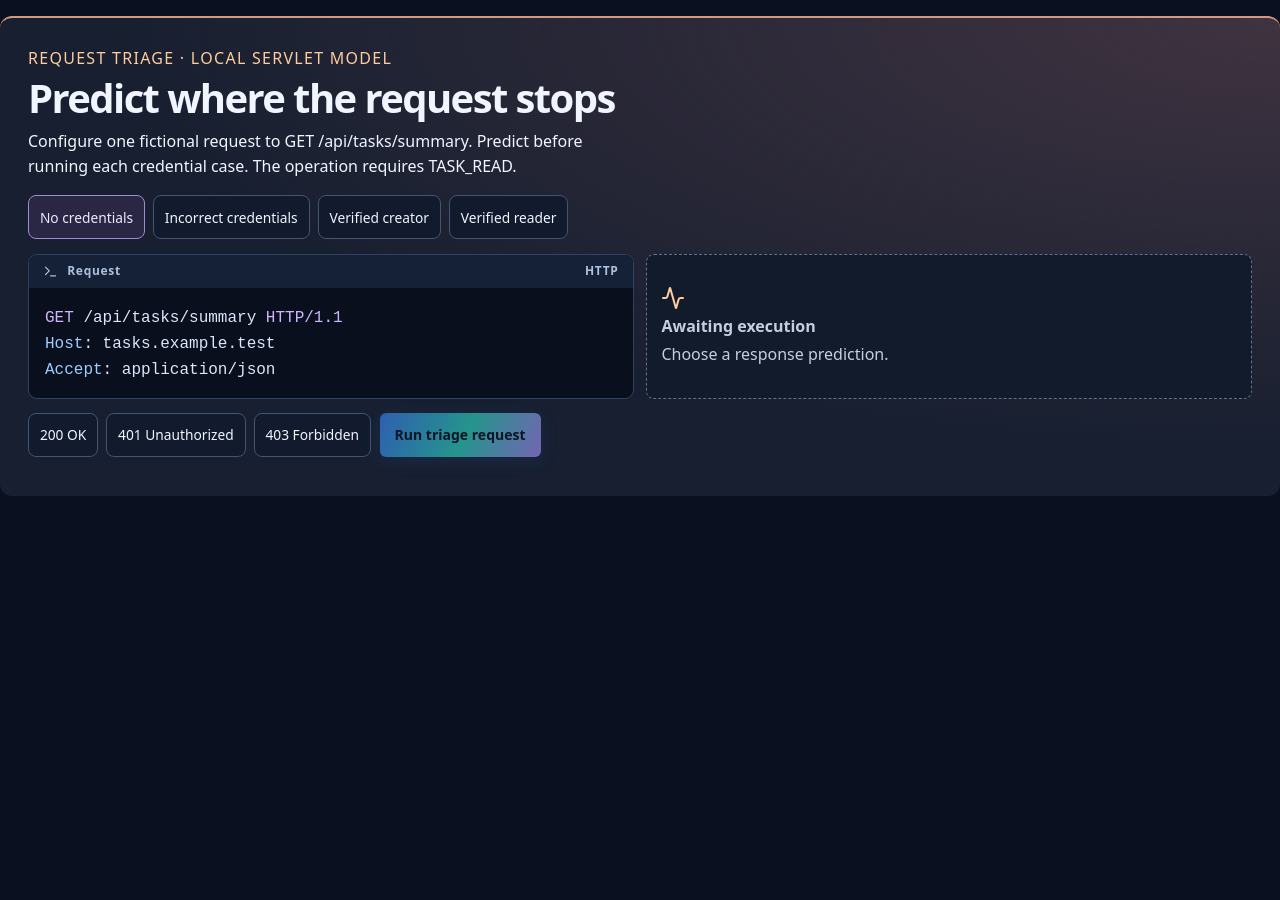
hides the simulated response until prediction and clears it on changing cases
Expected: the button "Run triage request" is disabled, 380,413 -> 540,457
Expected: the number of elements named "Illustrative HTTP message" is 1, 45,309 -> 343,379
Click the button "403 Forbidden" at (312, 435), box 254,413 -> 371,457
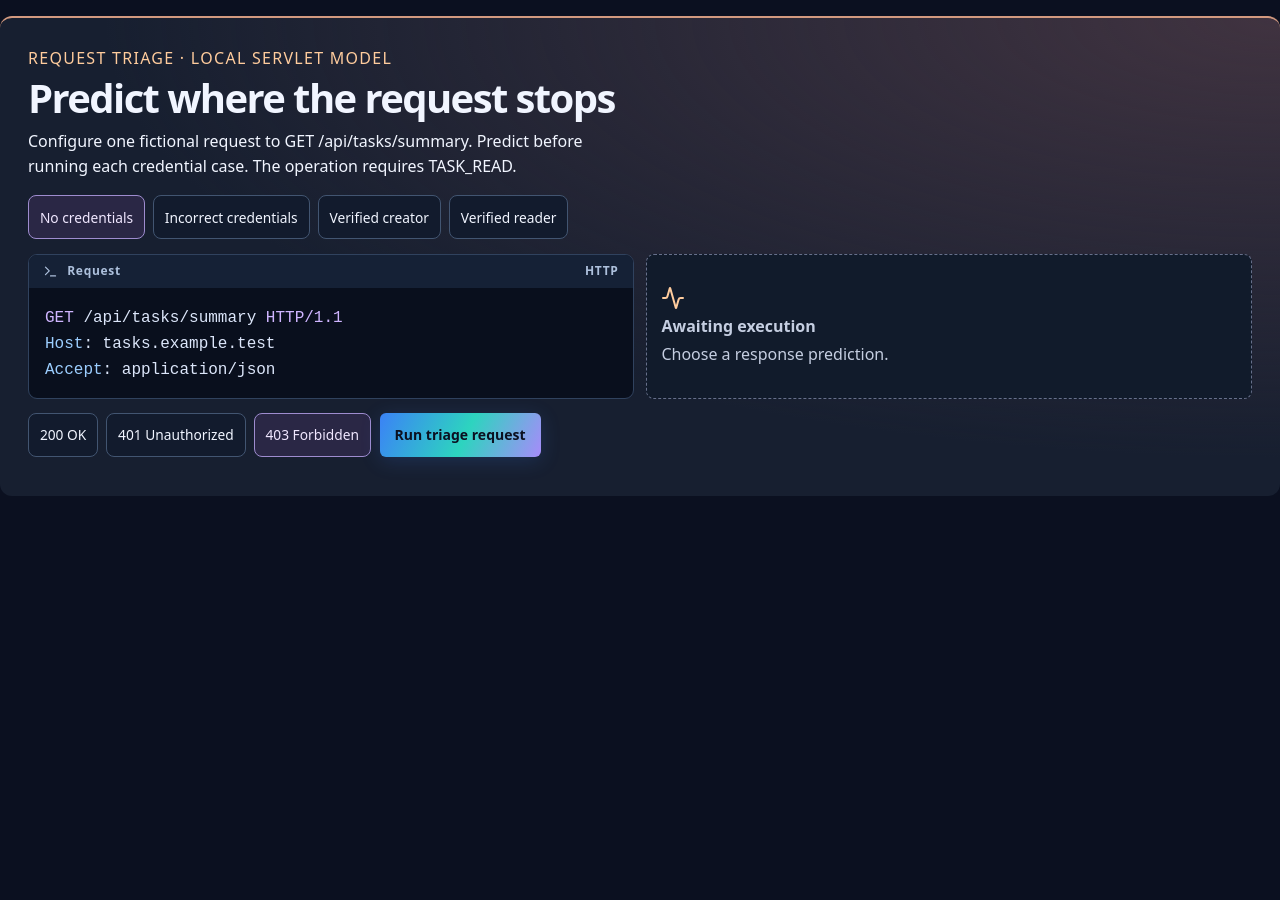
Click the button "Run triage request" at (460, 435), box 380,413 -> 540,457
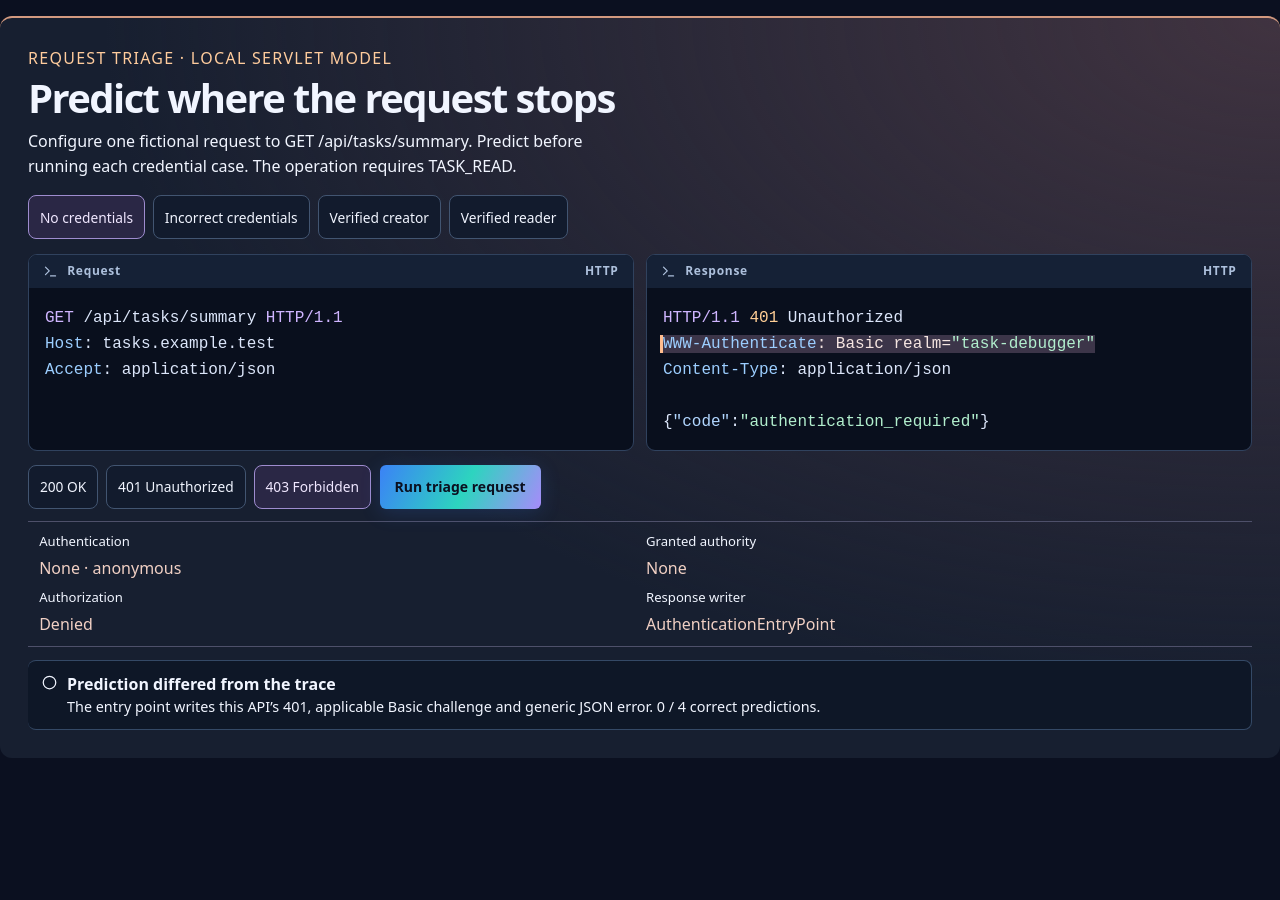
Expected: the message shows "Prediction differed", 67,673 -> 336,695
Click the button "Incorrect credentials" at (231, 217), box 153,195 -> 310,239
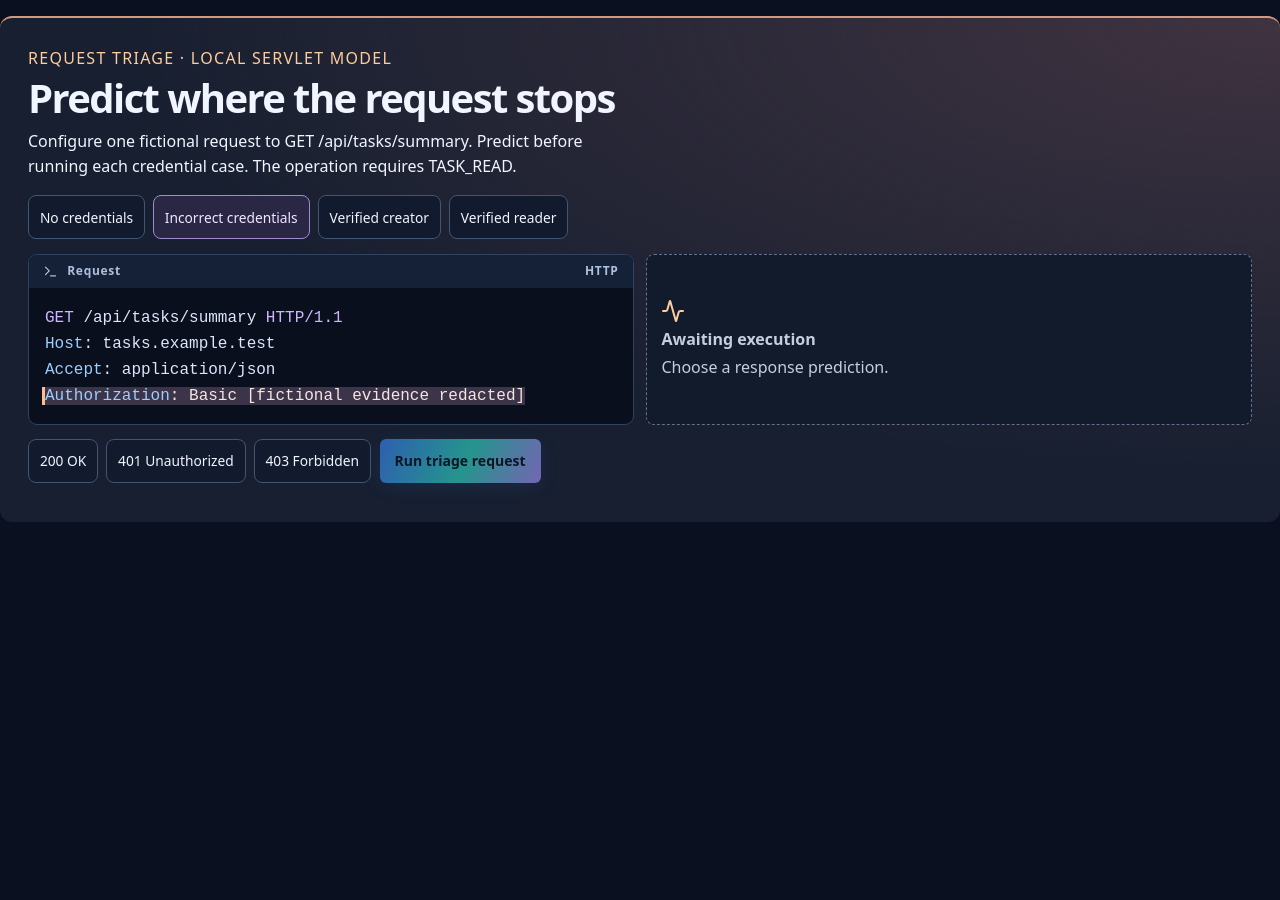
Expected: the button "Run triage request" is disabled, 380,439 -> 540,483
Expected: the number of elements named "Illustrative HTTP message" is 1, 45,309 -> 525,405
